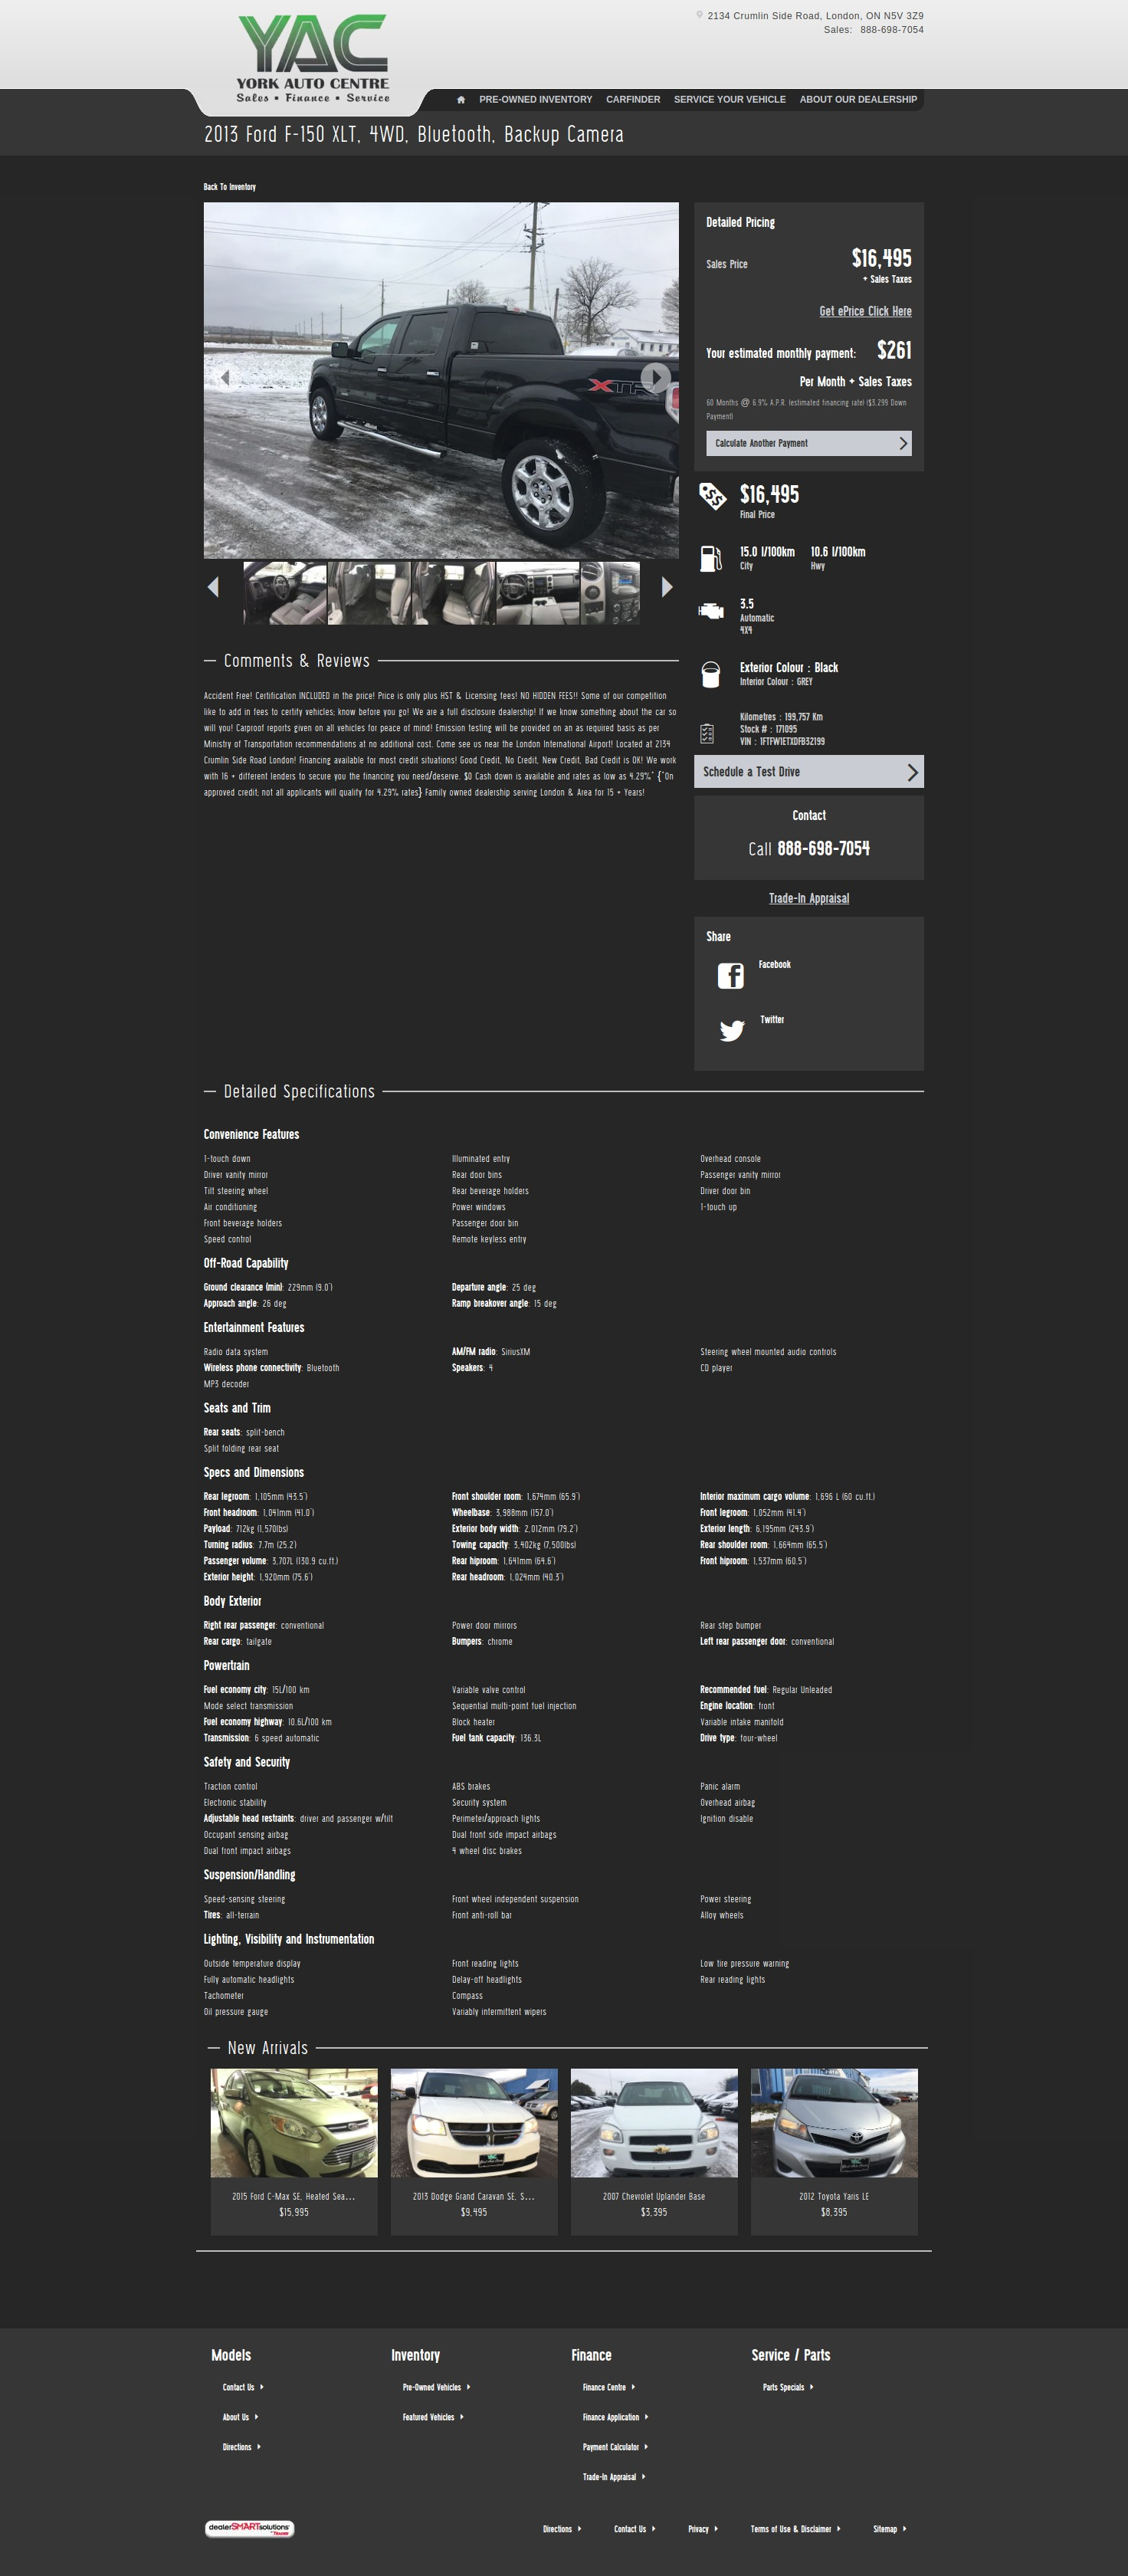car: (660, 577, 673, 598)
